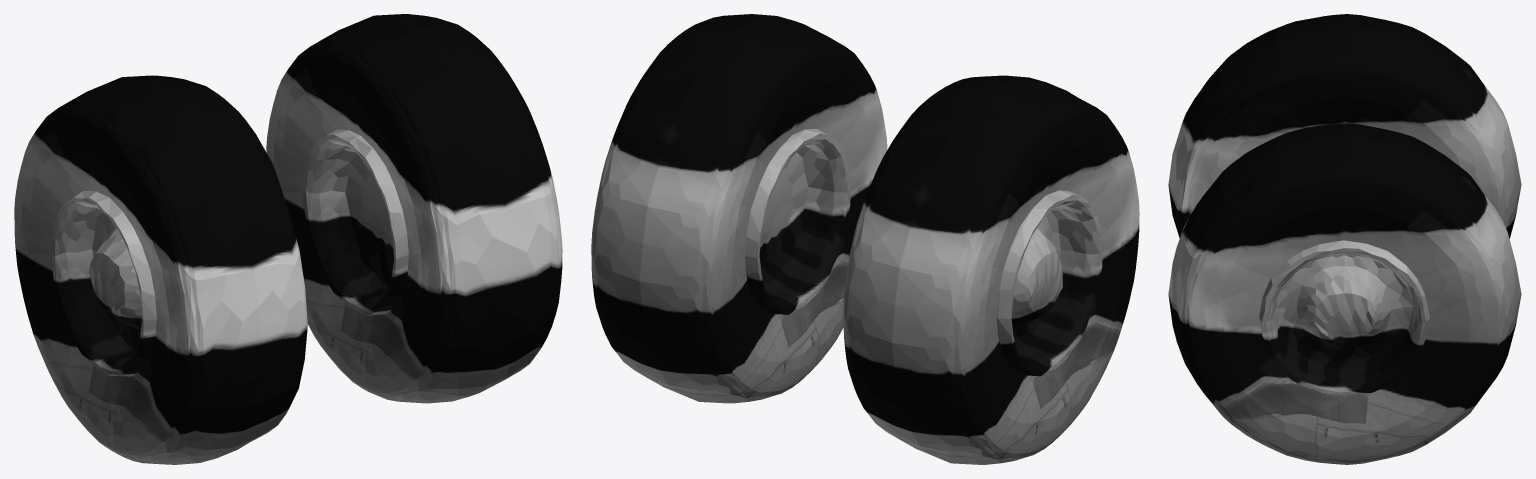
Rendered from erj195_tire_r.obj.
3 views of the same model, side by side, from view 1: azimuth 30°, elevation 25°; view 2: azimuth 150°, elevation 25°; view 3: azimuth 270°, elevation 25° (orthographic). The views are drawn at different scales.
Size of the model in its own units: 1 by 0.9 by 0.9.
Materials: 1 (1 with a texture image).
